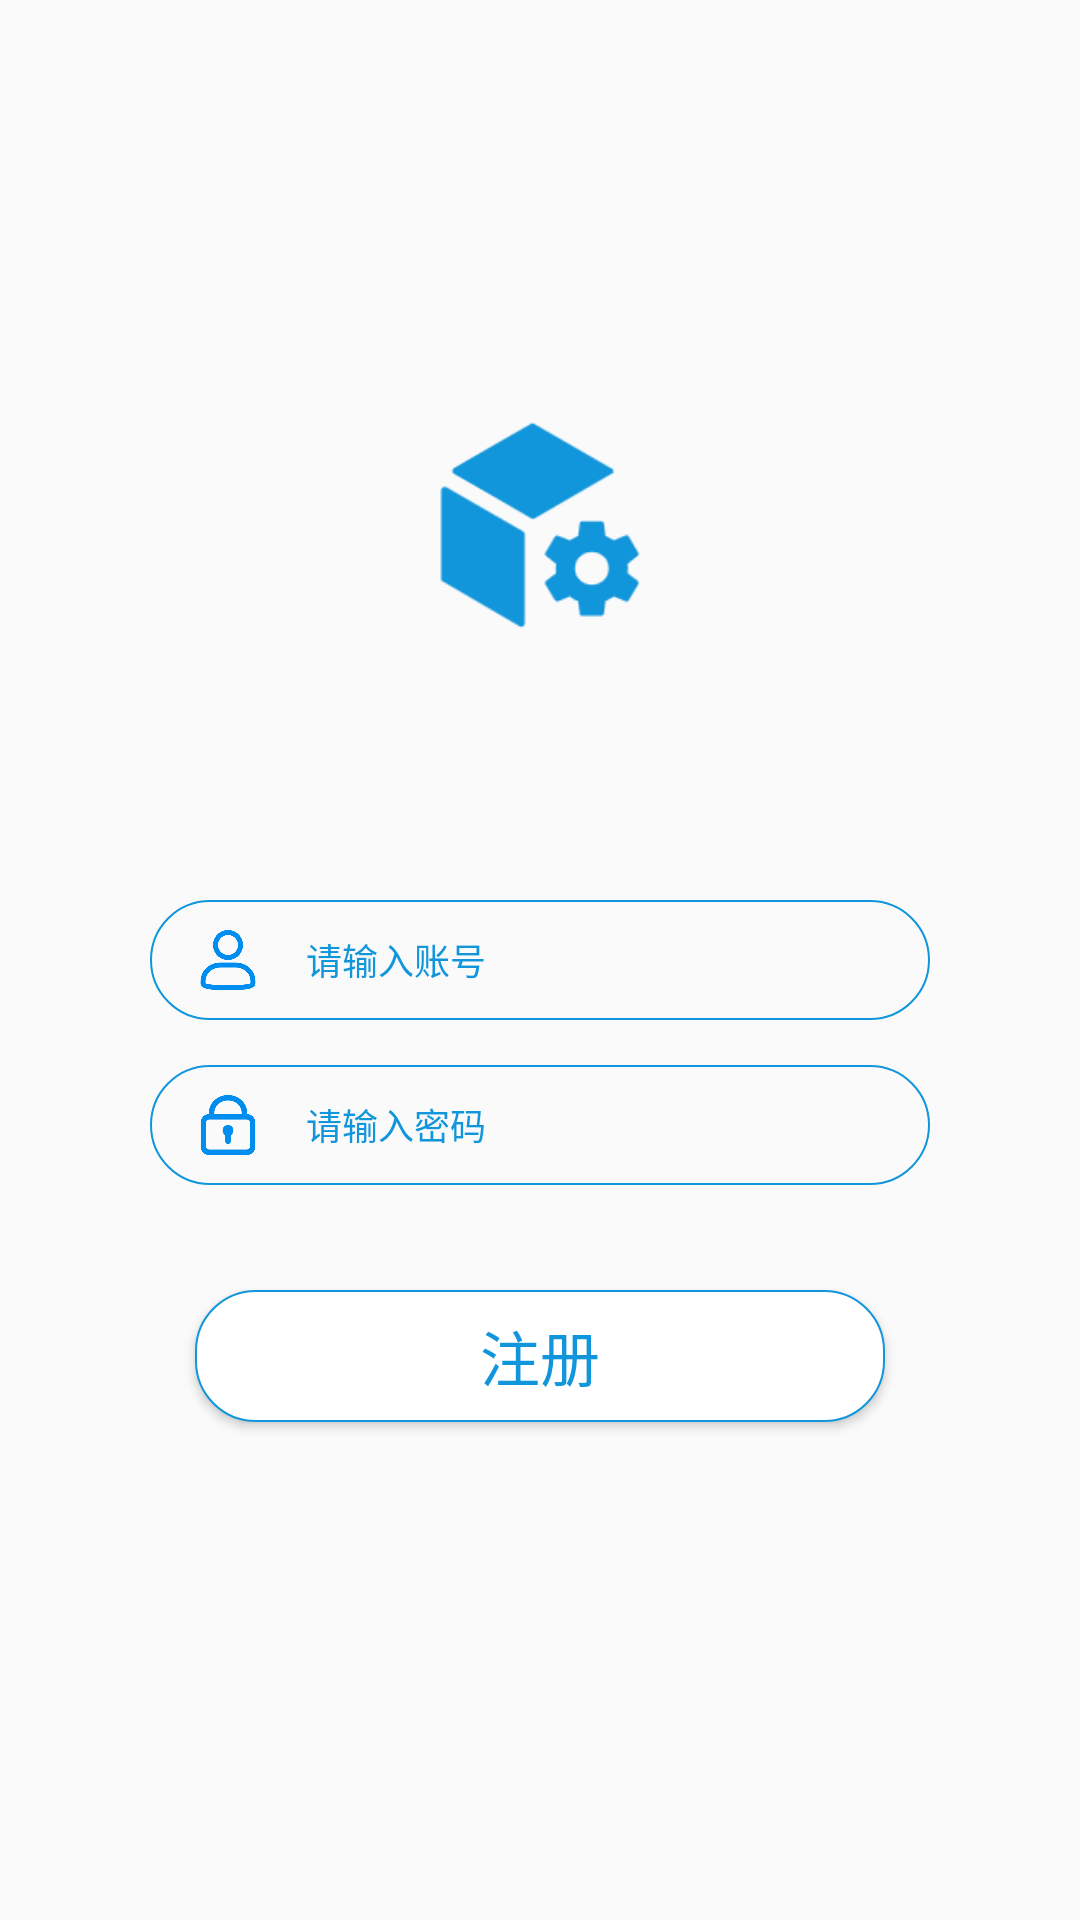

Point at icon controls on the screen. Image size 1080px x 1920px, points as (x=x, y=y).
password: (x=228, y=1125)
